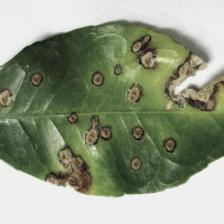canker: (1, 34, 224, 192)
